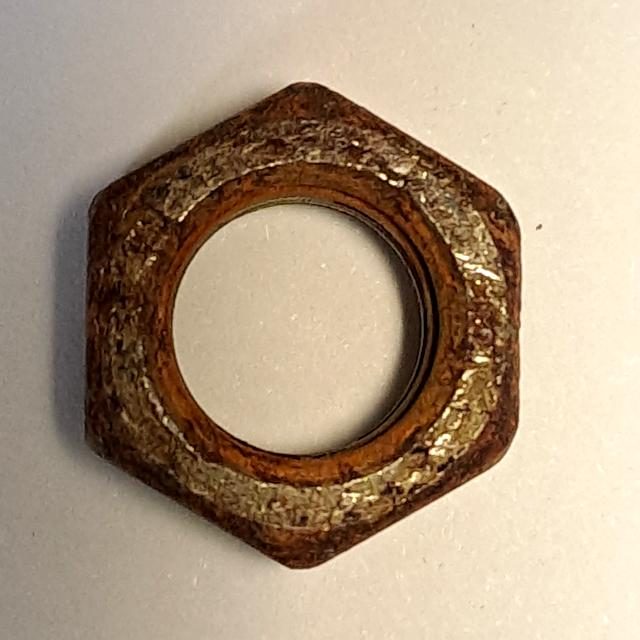Rust: (72, 61, 535, 584)
